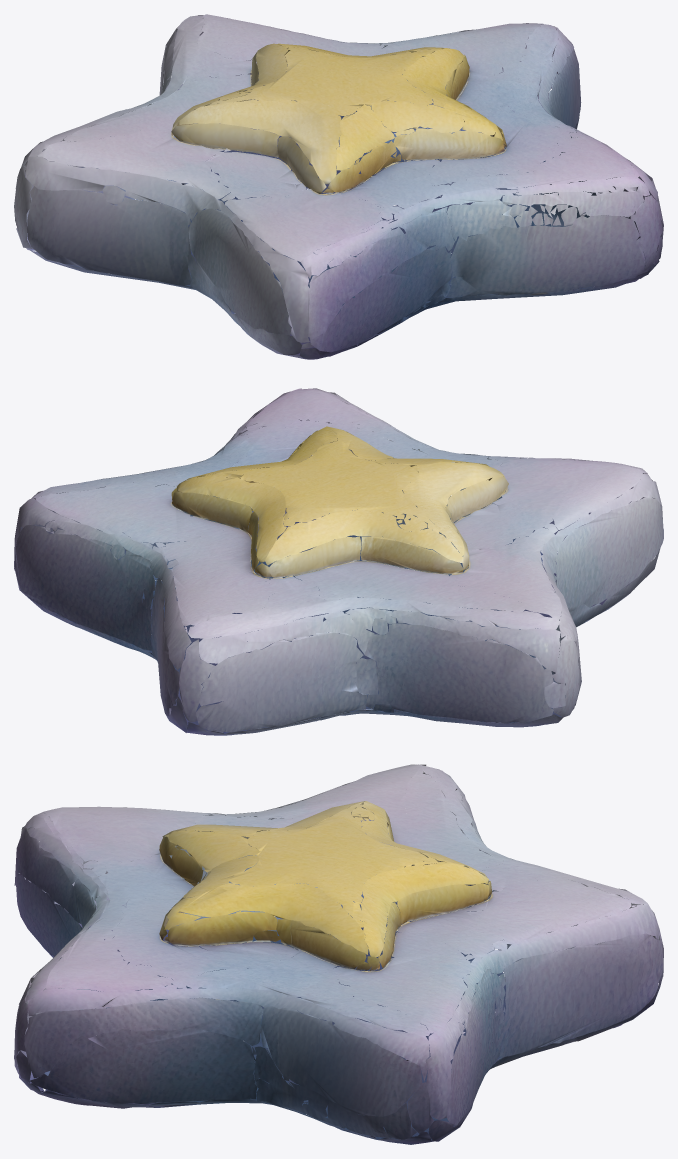
File: Pastel Puffy Stars.glb
3 views of the same model, one above another, from view 1: azimuth 30°, elevation 25°; view 2: azimuth 150°, elevation 25°; view 3: azimuth 270°, elevation 25° (orthographic). The views are drawn at different scales.
Visible parts, largest first — view 1: texture_mapping; view 2: texture_mapping; view 3: texture_mapping.
Part boxes in pixels (x1=…): texture_mapping: x1=14, y1=14, x2=663, y2=359; texture_mapping: x1=14, y1=388, x2=663, y2=735; texture_mapping: x1=14, y1=764, x2=663, y2=1144.
Size of the model in its own units: 0.9979 by 0.2684 by 0.9437.
1 material, 1 textured.
